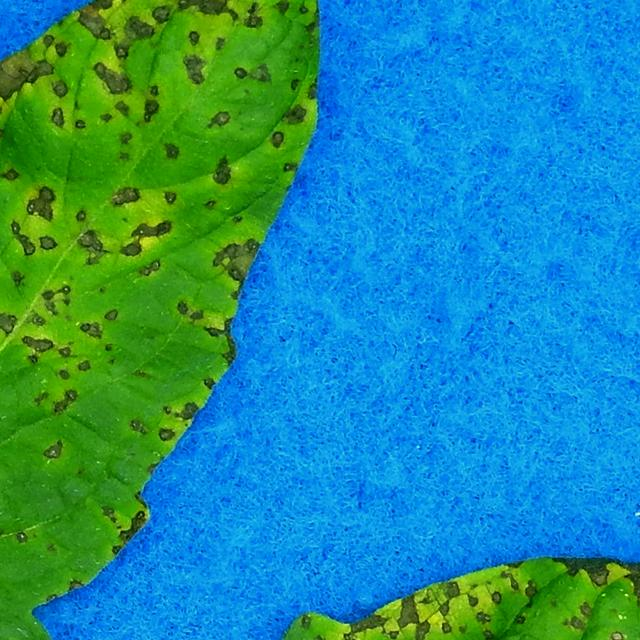Tomato Septoria leaf spot: (0, 0, 328, 640), (33, 532, 640, 640)
